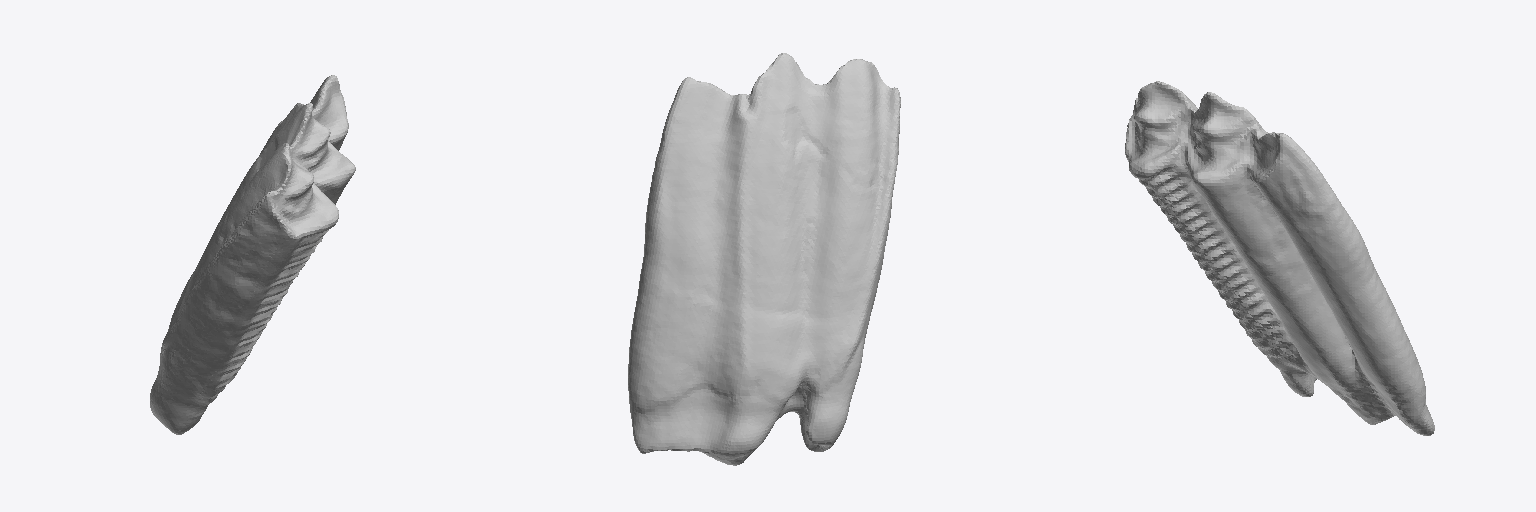
Rendered from MB Ovis 4 M3.obj.
The picture shows the model from 3 angles: view 1: azimuth 30°, elevation 25°; view 2: azimuth 150°, elevation 25°; view 3: azimuth 270°, elevation 25°; orthographic projection.
Size of the model in its own units: 19.2 by 34.89 by 28.35.